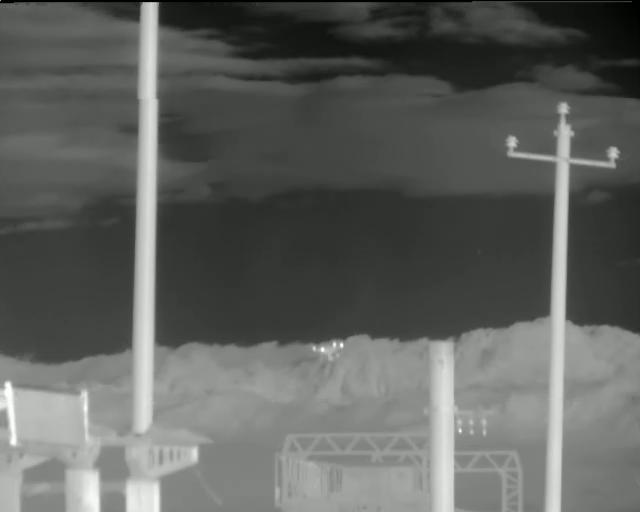uav: (311, 339, 346, 364)
